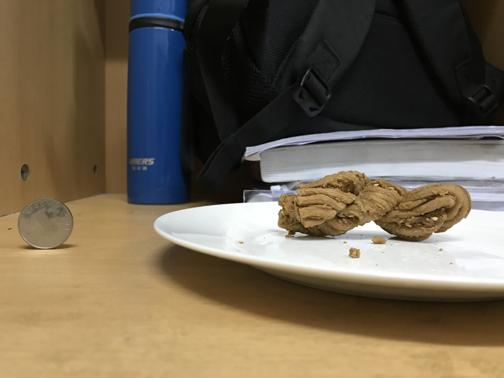coin: (18, 197, 72, 248)
fired_dough_twist: (275, 173, 471, 242)
